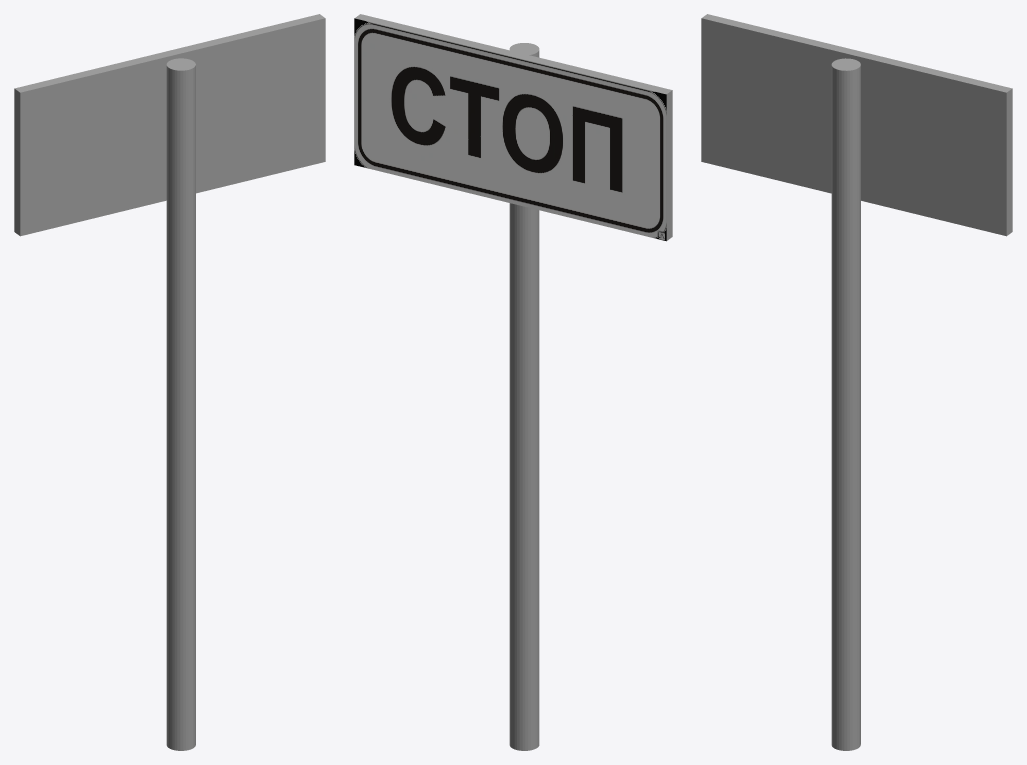
File: СтопНаБеломФоне.fbx
The picture shows the model from 3 angles, left to right: view 1: azimuth 30°, elevation 25°; view 2: azimuth 150°, elevation 25°; view 3: azimuth 330°, elevation 25°; orthographic projection. The views are drawn at different scales.
Parts seen in each view (by area): view 1: Знак; view 2: Знак; view 3: Знак.
Part boxes in pixels (<box>): Знак: <box>14,14,325,750</box>; Знак: <box>354,14,672,750</box>; Знак: <box>701,14,1012,750</box>.
Bounding box in the file's own units: 60.51 × 502 × 1073.
2 materials, 1 textured.
